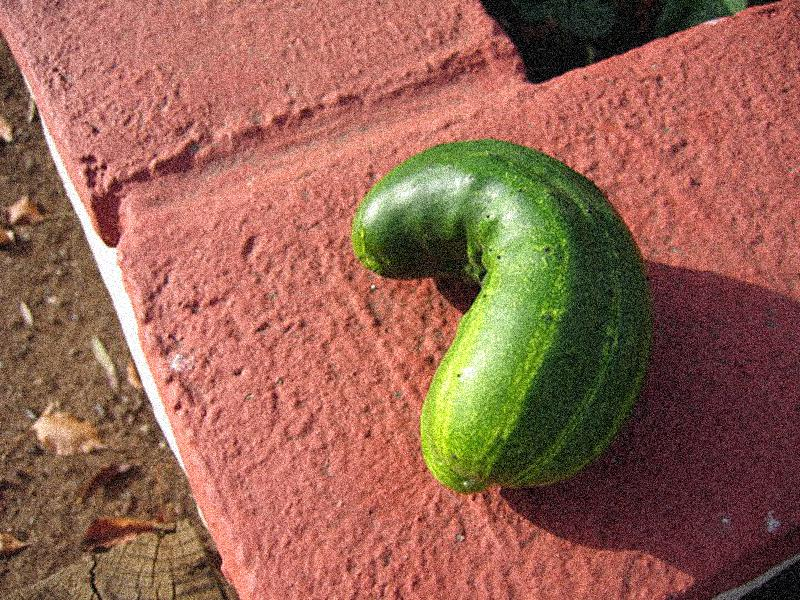Cucumber: (348, 139, 650, 491)
